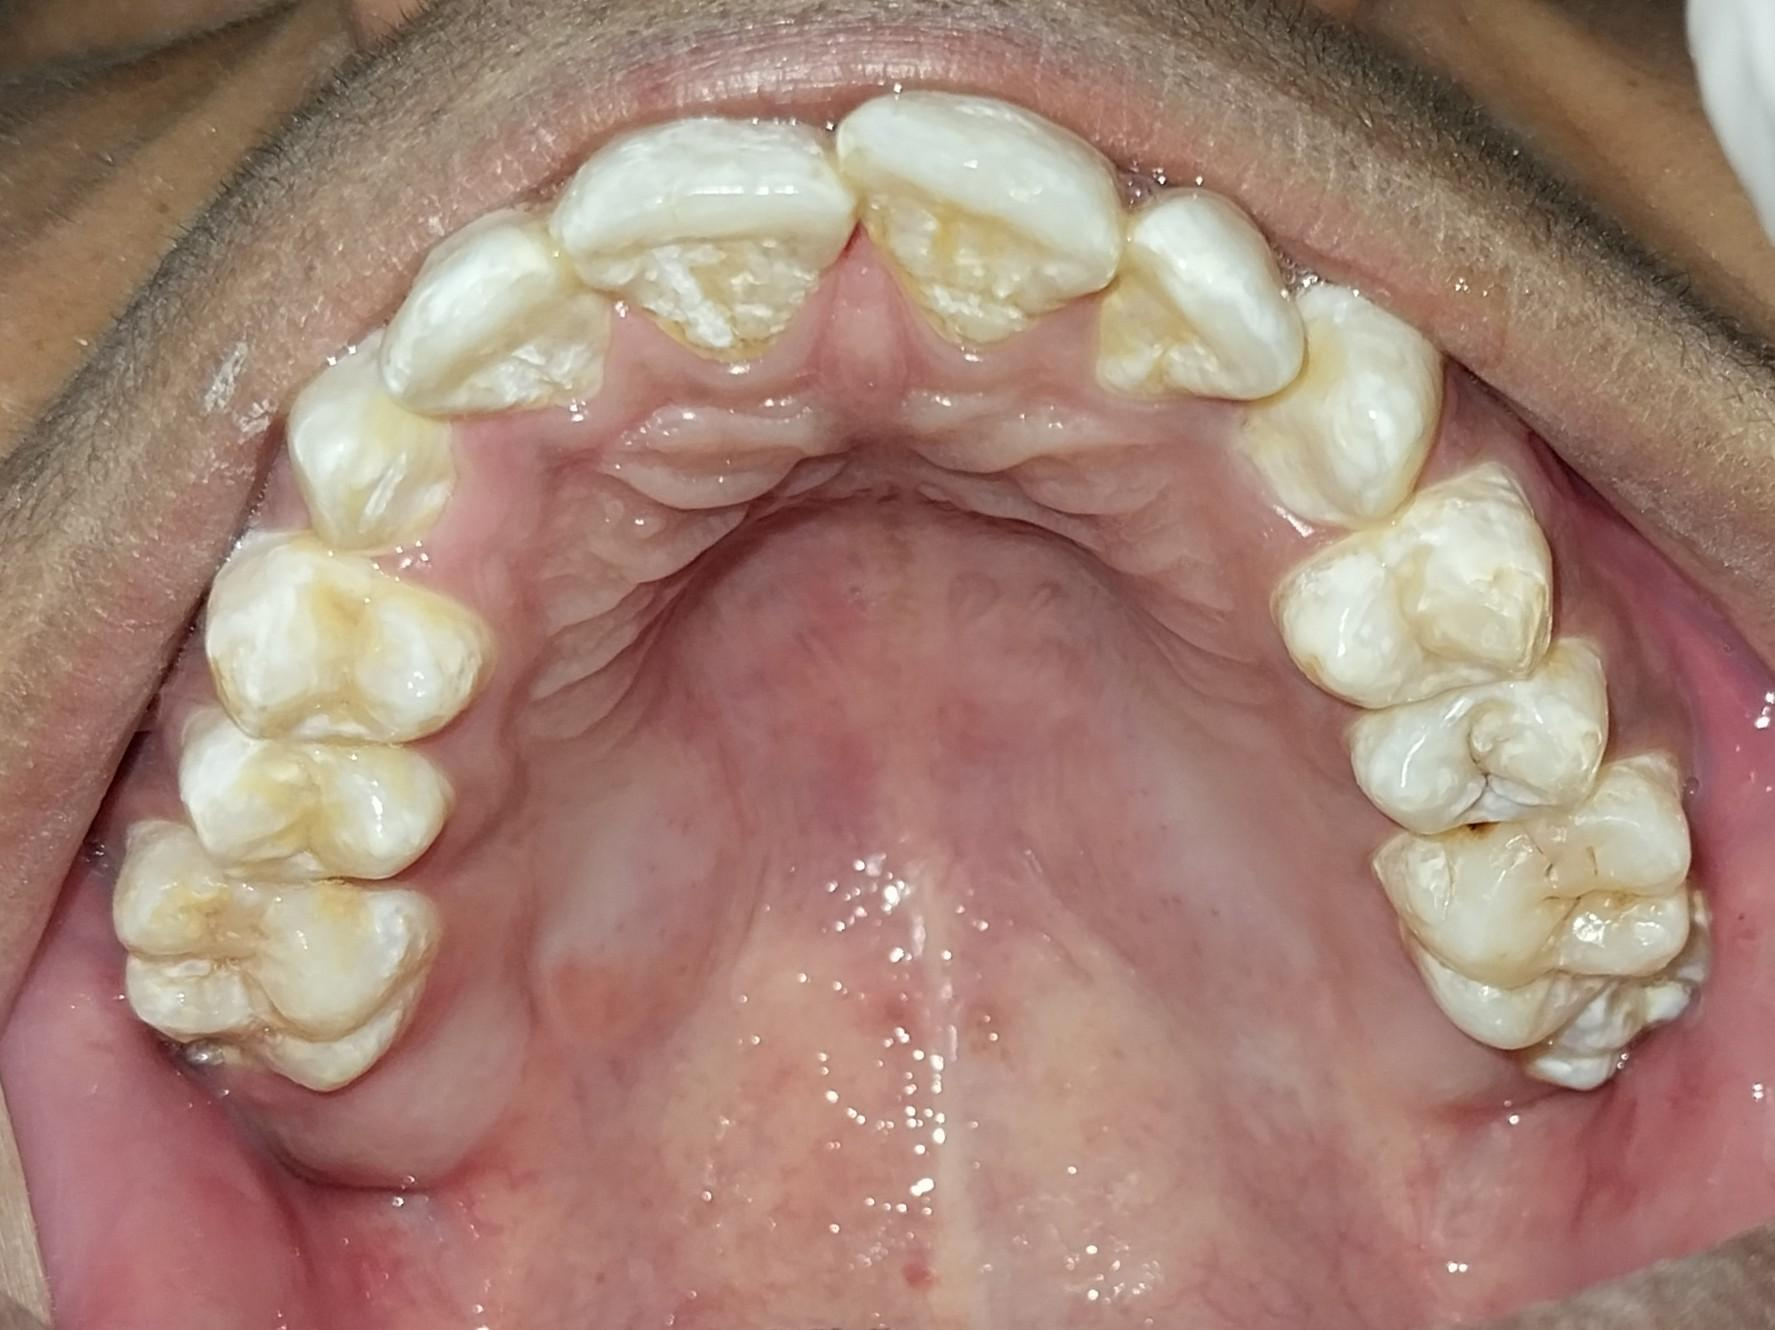D: (1351, 649, 1607, 830)
